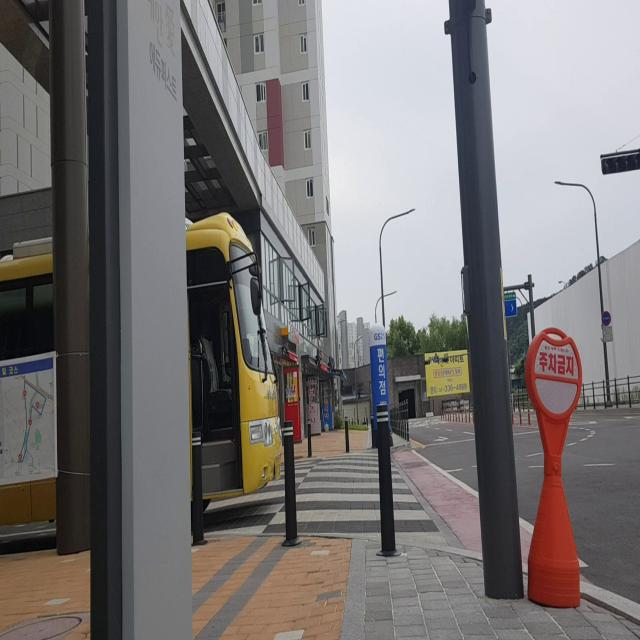횡단보도: (191, 449, 451, 550)
